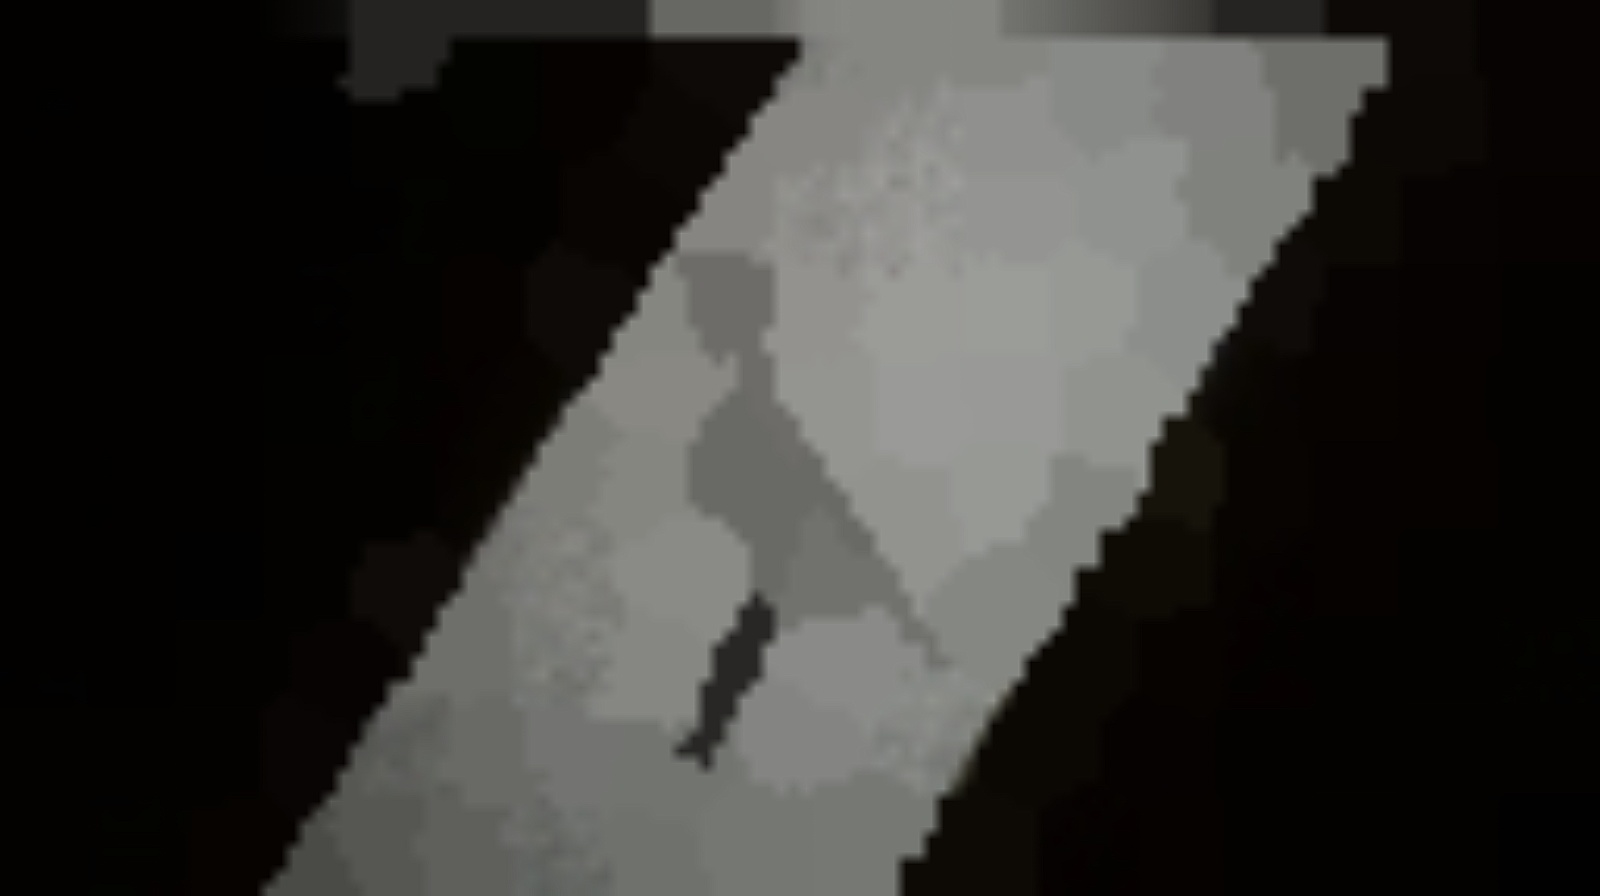S001: (656, 480, 809, 779)
S002: (724, 335, 973, 688)
